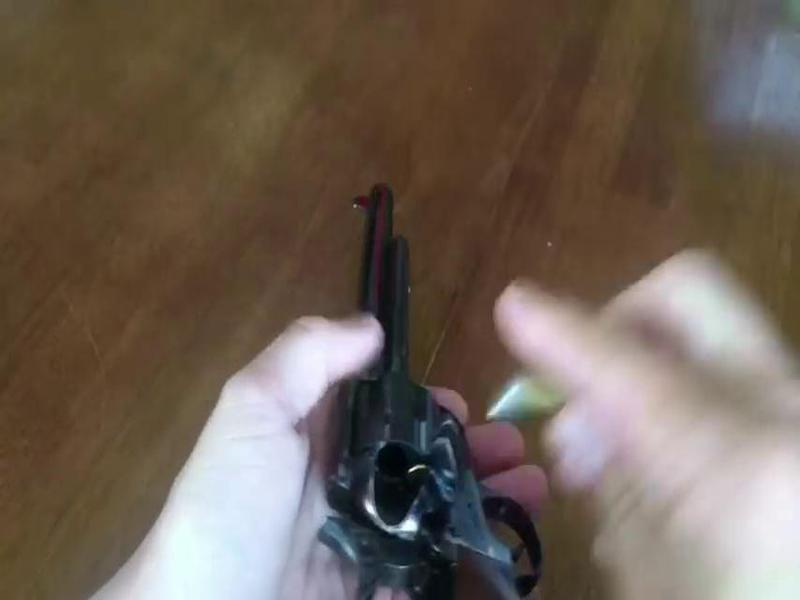Revolver: (297, 170, 514, 600)
